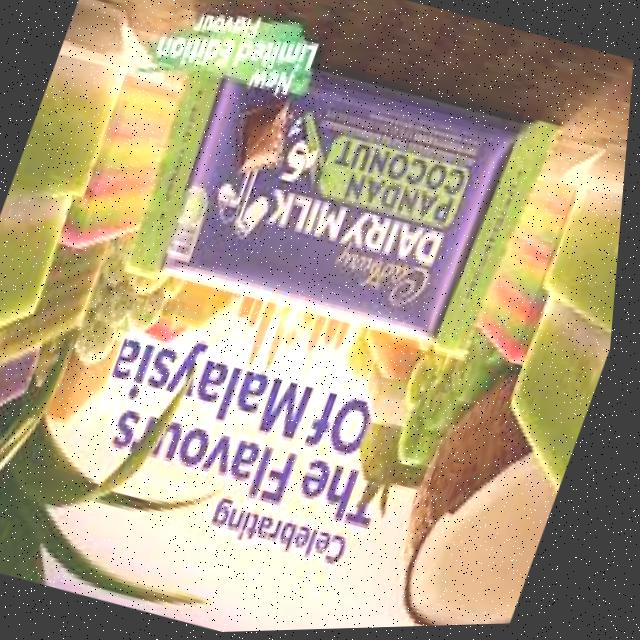cadbury: (119, 29, 569, 375)
